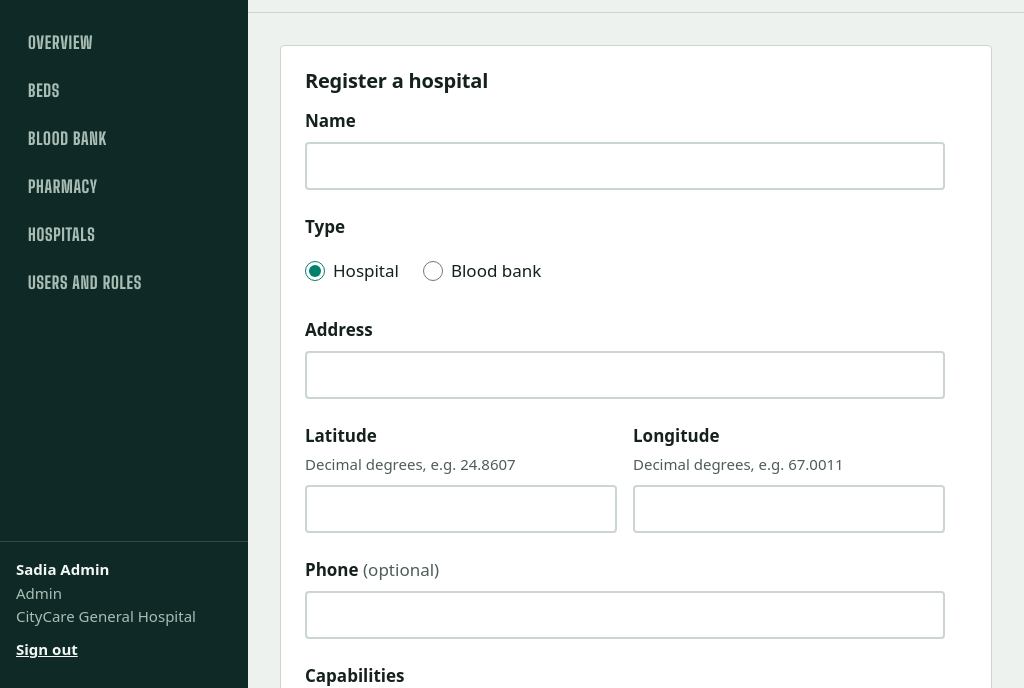
it: HospitalFormPage (story 1.3 Hospital registration and capability profile) › refuses coordinates outside the globe before sending
The image size is (1024, 688).
In the field labelled "Name": (625, 166) x1=305 y1=142 x2=945 y2=190, type "Northside Hospital"
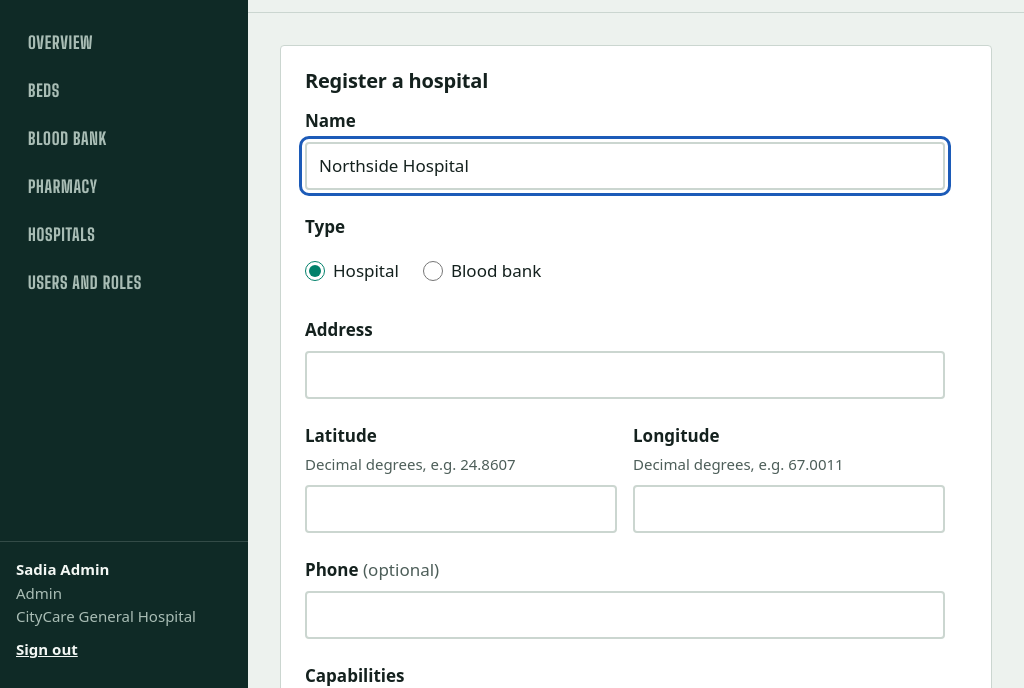
In the field labelled "Address": (625, 375) x1=305 y1=351 x2=945 y2=399, type "North Nazimabad, Karachi"
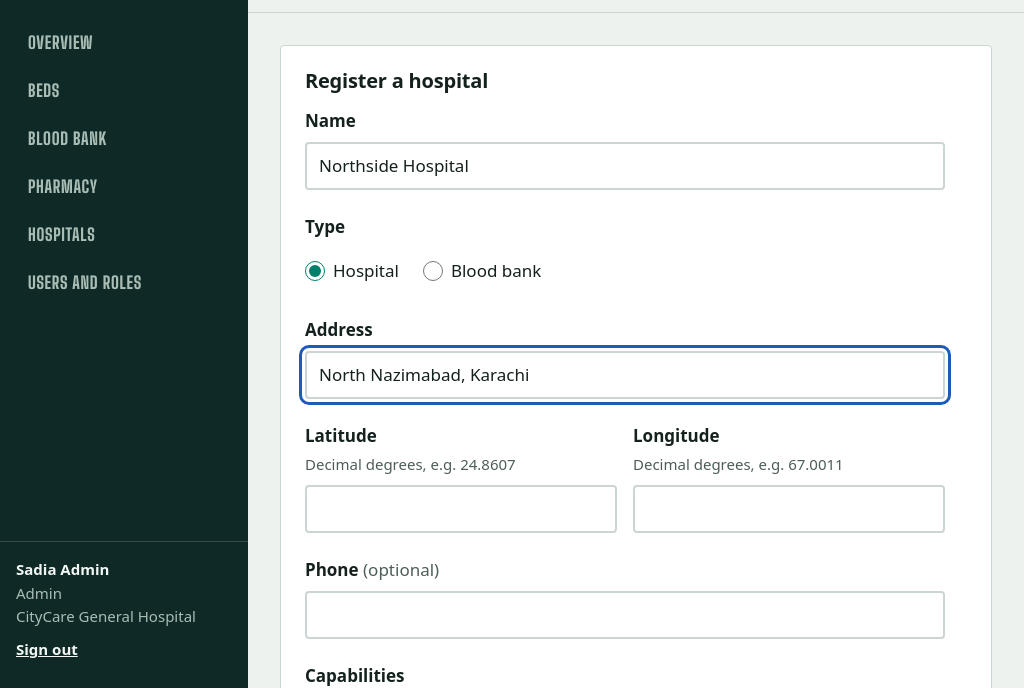
In the field labelled "Latitude": (461, 509) x1=305 y1=485 x2=617 y2=533, type "24.9420"
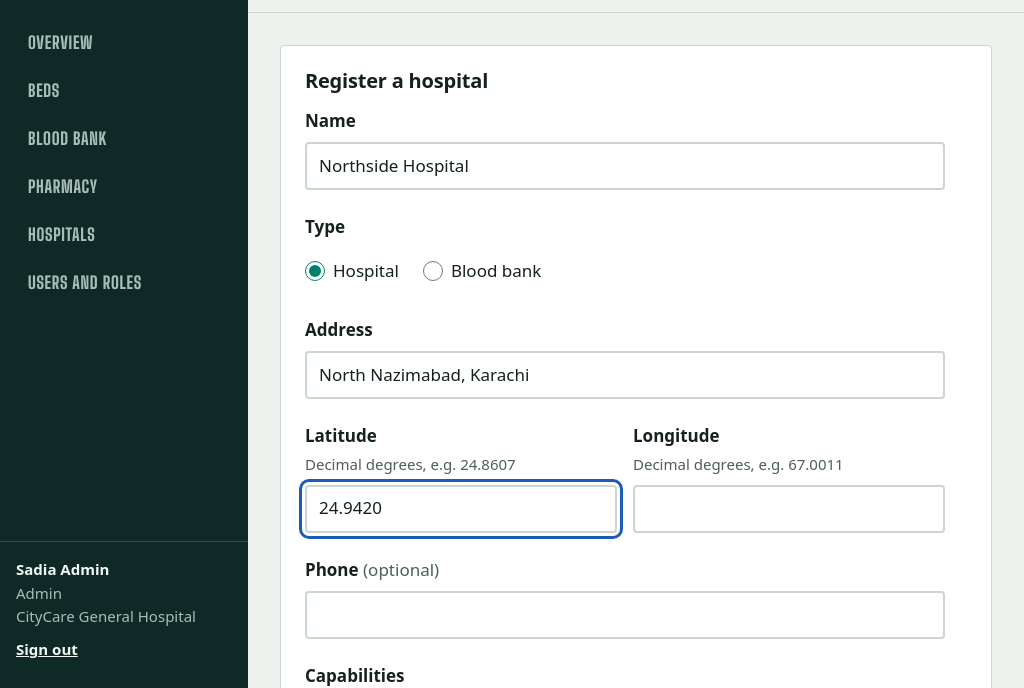
In the field labelled "Longitude": (789, 509) x1=633 y1=485 x2=945 y2=533, type "67.0347"
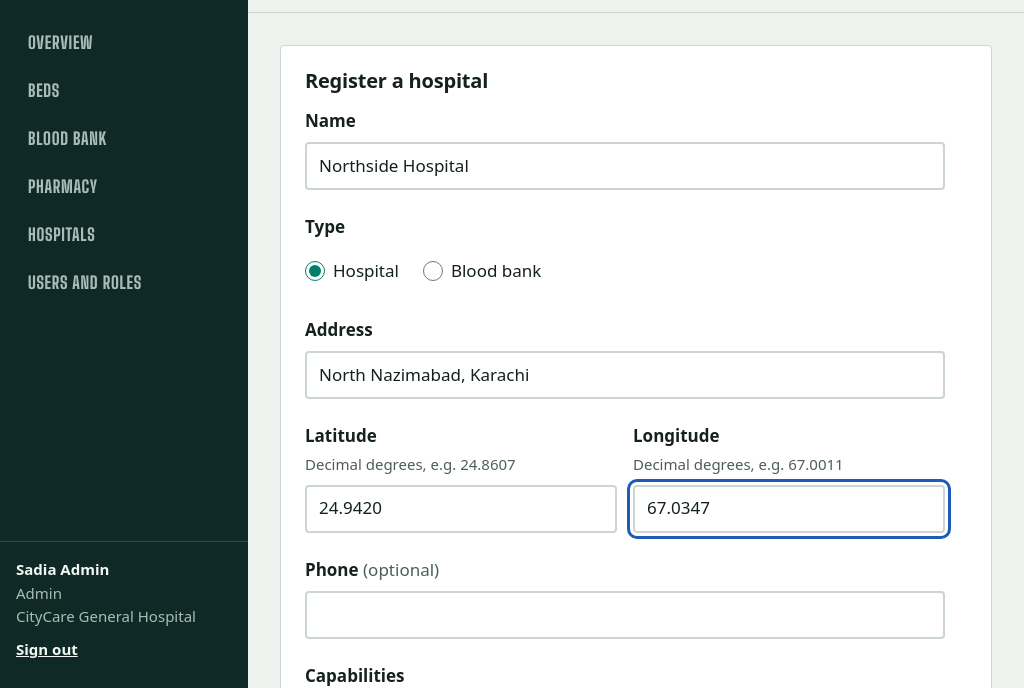
Replace the text in the field labelled "Latitude" with "124": (461, 509) x1=305 y1=485 x2=617 y2=533
(page scrolled)
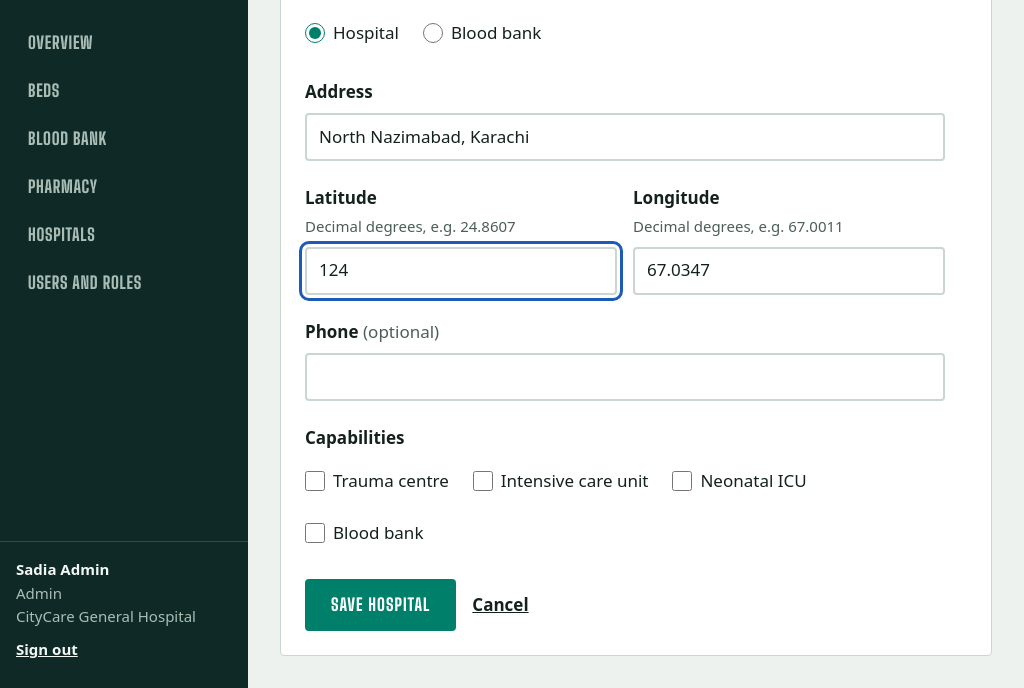
Click the button "Save hospital": click(381, 605) x1=305 y1=579 x2=456 y2=631
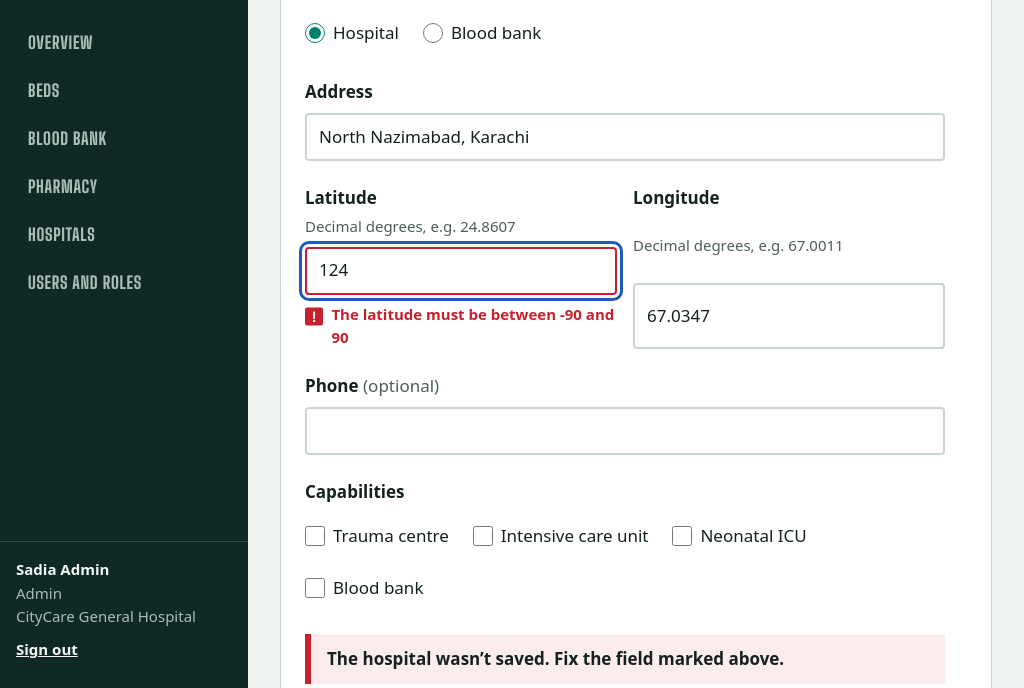
Expected: the text "The latitude must be between -90 and 90" is shown, x1=331 y1=304 x2=614 y2=347
